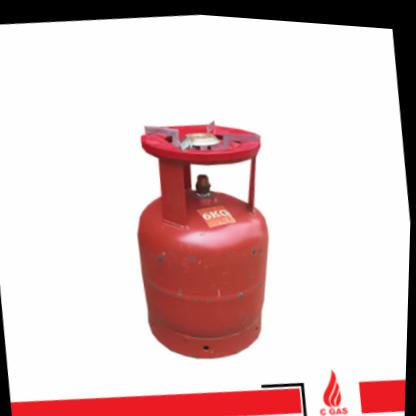gas-tank: (101, 90, 309, 381)
